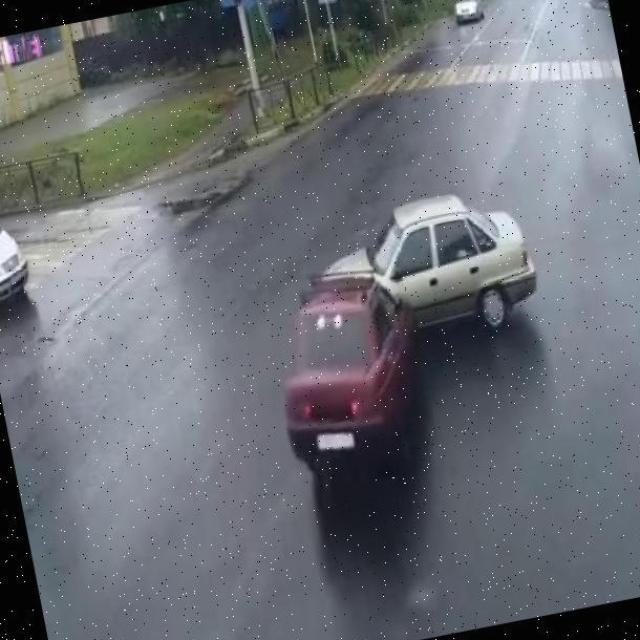accident: (281, 192, 501, 401)
